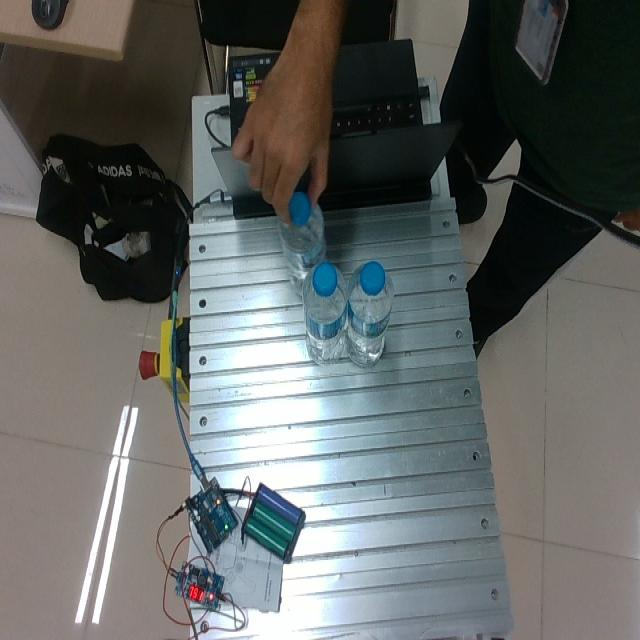lavie: (345, 261, 393, 368), (303, 262, 350, 366), (277, 196, 326, 292)
